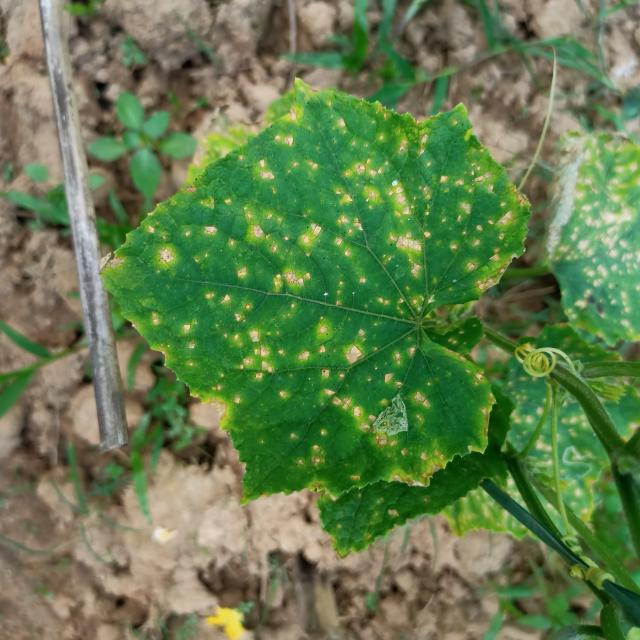disease_cucumber: (138, 101, 525, 482)
